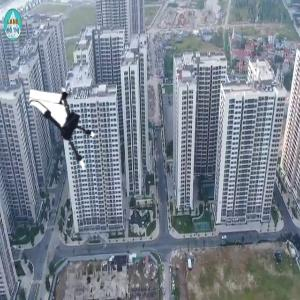drone: (26, 89, 110, 173)
